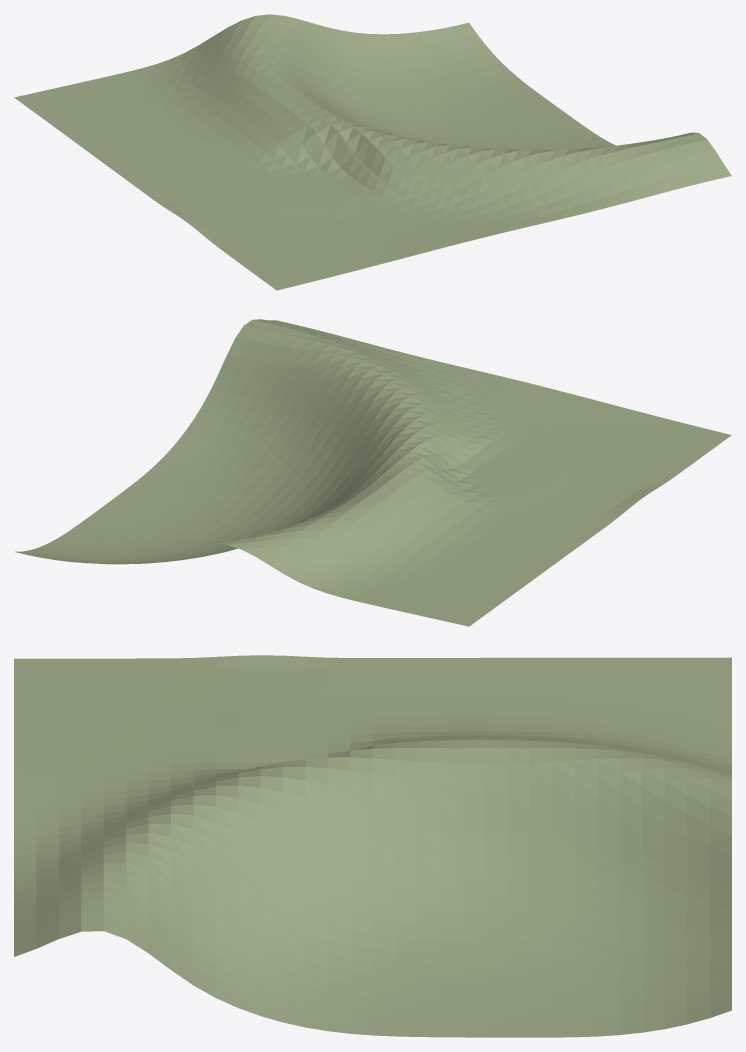
Rendered from lunar-2-0.glb.
3 renders of one model, top to bottom at view 1: azimuth 30°, elevation 25°; view 2: azimuth 150°, elevation 25°; view 3: azimuth 270°, elevation 25°, orthographic. The views are drawn at different scales.
Parts seen in each view (by area): view 1: lunar-2-0; view 2: lunar-2-0; view 3: lunar-2-0.
Part boxes in pixels (x1,y1,x2,y2): lunar-2-0: (14,14,731,290); lunar-2-0: (15,319,731,626); lunar-2-0: (14,655,731,1037).
Bounding box in the file's own units: 128 × 21.69 × 128.
